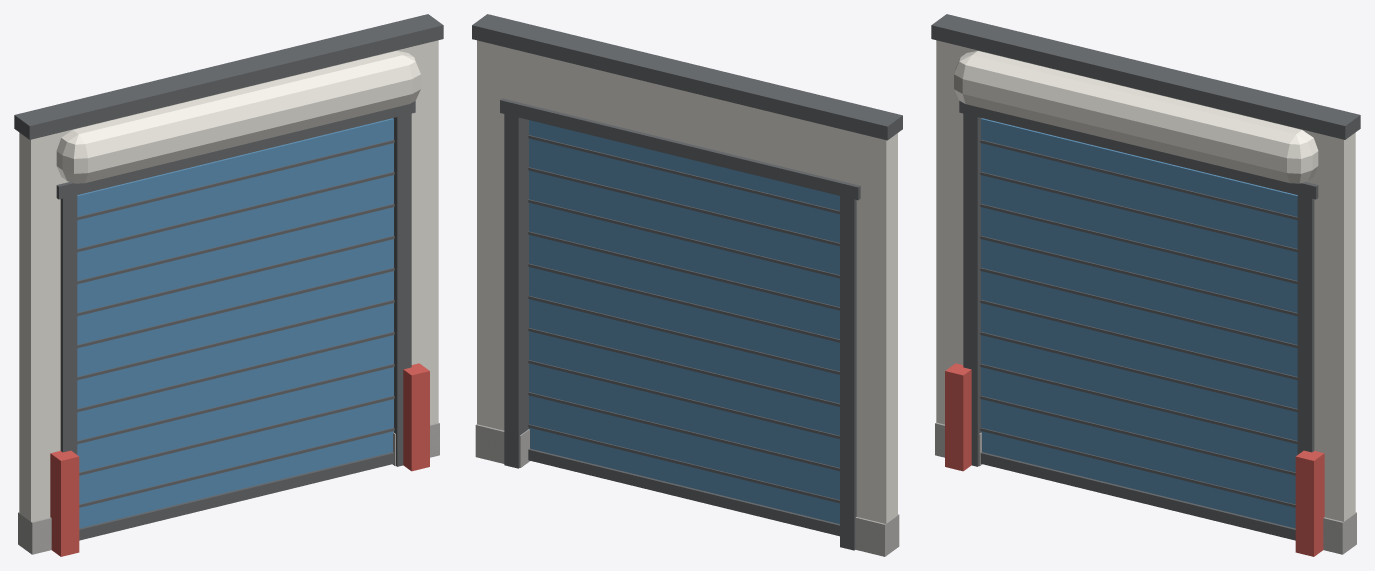
File: woodworking-workshop-and-joinery-woodworking-workshop--e1b29a68__34236.glb
The picture shows the model from 3 angles, left to right: view 1: azimuth 30°, elevation 25°; view 2: azimuth 150°, elevation 25°; view 3: azimuth 330°, elevation 25°; orthographic projection.
Visible parts, largest first — view 1: shutter/blue, woodworking-workshop-and-joinery-roller-door-module, shutter/charcoal; view 2: shutter/blue, woodworking-workshop-and-joinery-roller-door-module, shutter/charcoal; view 3: shutter/blue, woodworking-workshop-and-joinery-roller-door-module, shutter/charcoal.
Boxes of the visible parts, x1,y1,x2,y2 form: shutter/blue: (77,118,393,528); woodworking-workshop-and-joinery-roller-door-module: (14,14,443,556); shutter/charcoal: (77,140,394,540); shutter/blue: (529,120,839,523); woodworking-workshop-and-joinery-roller-door-module: (472,14,902,556); shutter/charcoal: (528,135,839,536); shutter/blue: (981,118,1297,528); woodworking-workshop-and-joinery-roller-door-module: (931,14,1360,556); shutter/charcoal: (980,140,1297,540).
Size of the model in its own units: 4.06 by 4.03 by 0.5.
Materials: 5 (1 with a texture image).
